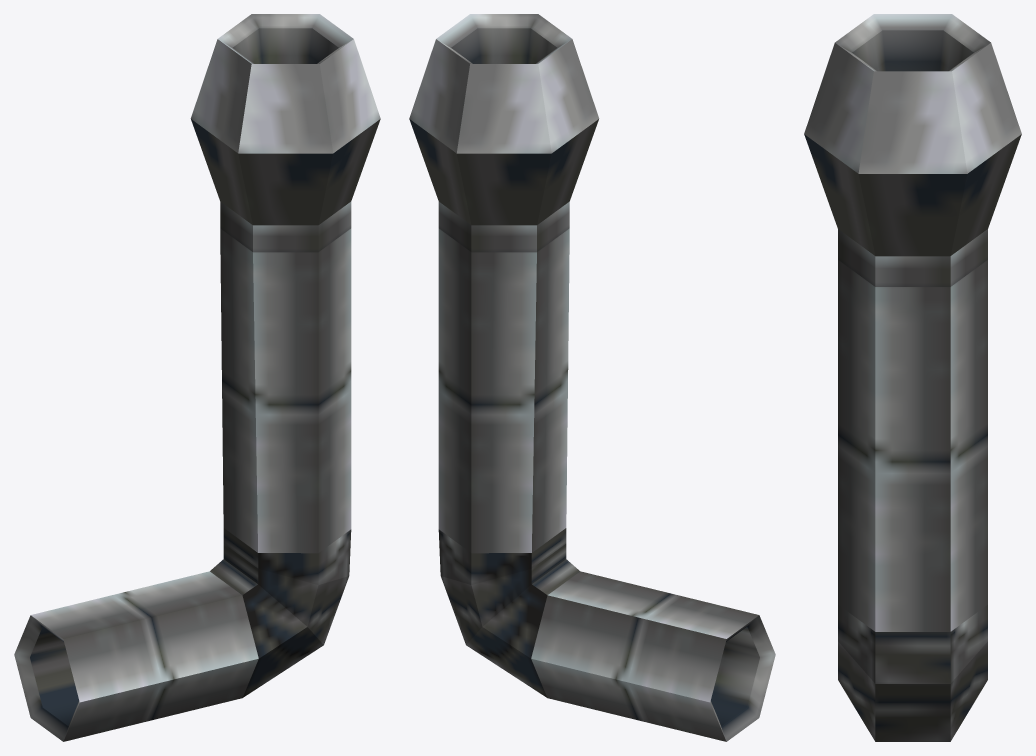
Rendered from Poly_Pipe_01.obj.
The picture shows the model from 3 angles, left to right: view 1: azimuth 30°, elevation 25°; view 2: azimuth 150°, elevation 25°; view 3: azimuth 270°, elevation 25°; orthographic projection. The views are drawn at different scales.
Parts seen in each view (by area): view 1: Cylinder; view 2: Cylinder; view 3: Cylinder.
Boxes of the visible parts, left/top/right/bottom form: Cylinder: left=14, top=14, right=380, bottom=741; Cylinder: left=409, top=14, right=775, bottom=741; Cylinder: left=804, top=14, right=1021, bottom=741.
Size of the model in its own units: 0.8438 by 1.65 by 0.448.
1 material, 1 textured.
